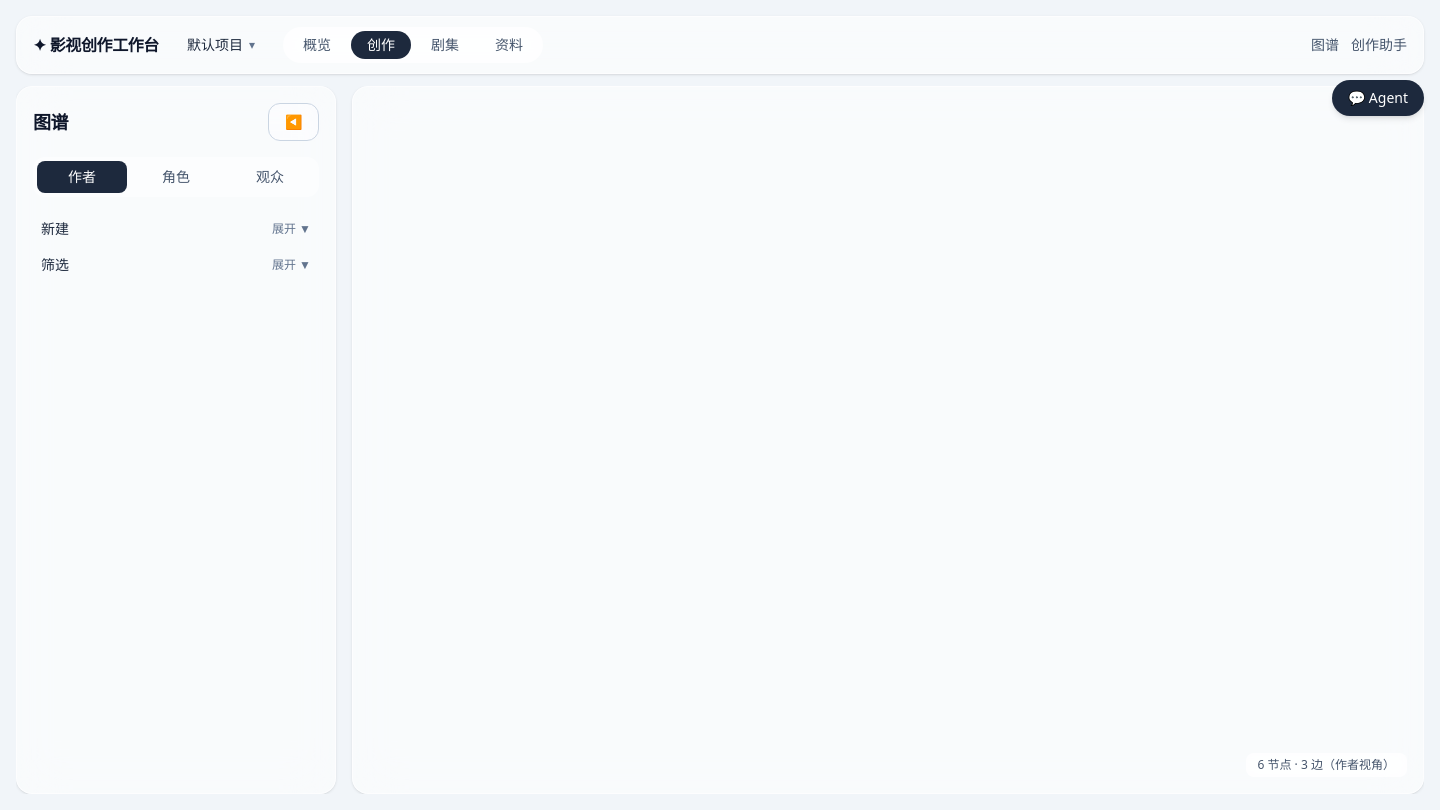
Scenario: Workbench 集成（I1–I8） › I14: 筛选联动状态栏可见计数——取消人物后 3 节点 0 边（已筛选），恢复后 6 节点 3 边
Expected: the text with test id "graph-stats" shows "6 节点 · 3 边", [1246, 753, 1407, 777]
Note: 设计依据: 交互三轮—可见计数联动；边界值—边计数 0（种子全部边触人物）
Click the button "筛选 展开 ▼" at [292, 264], box [33, 249, 319, 281]
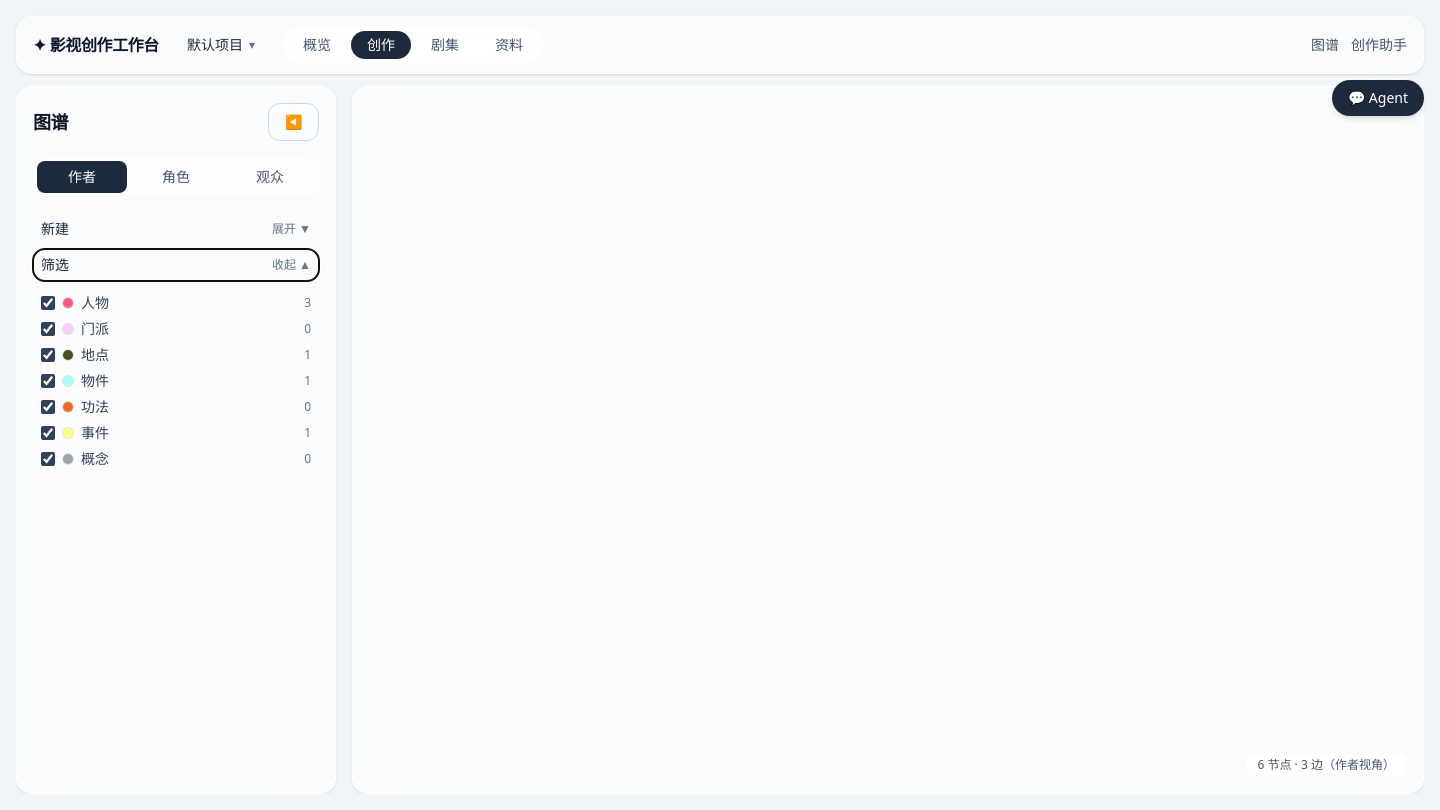
Click the checkbox named "人物 (3)" at [48, 303], box [41, 296, 55, 310]
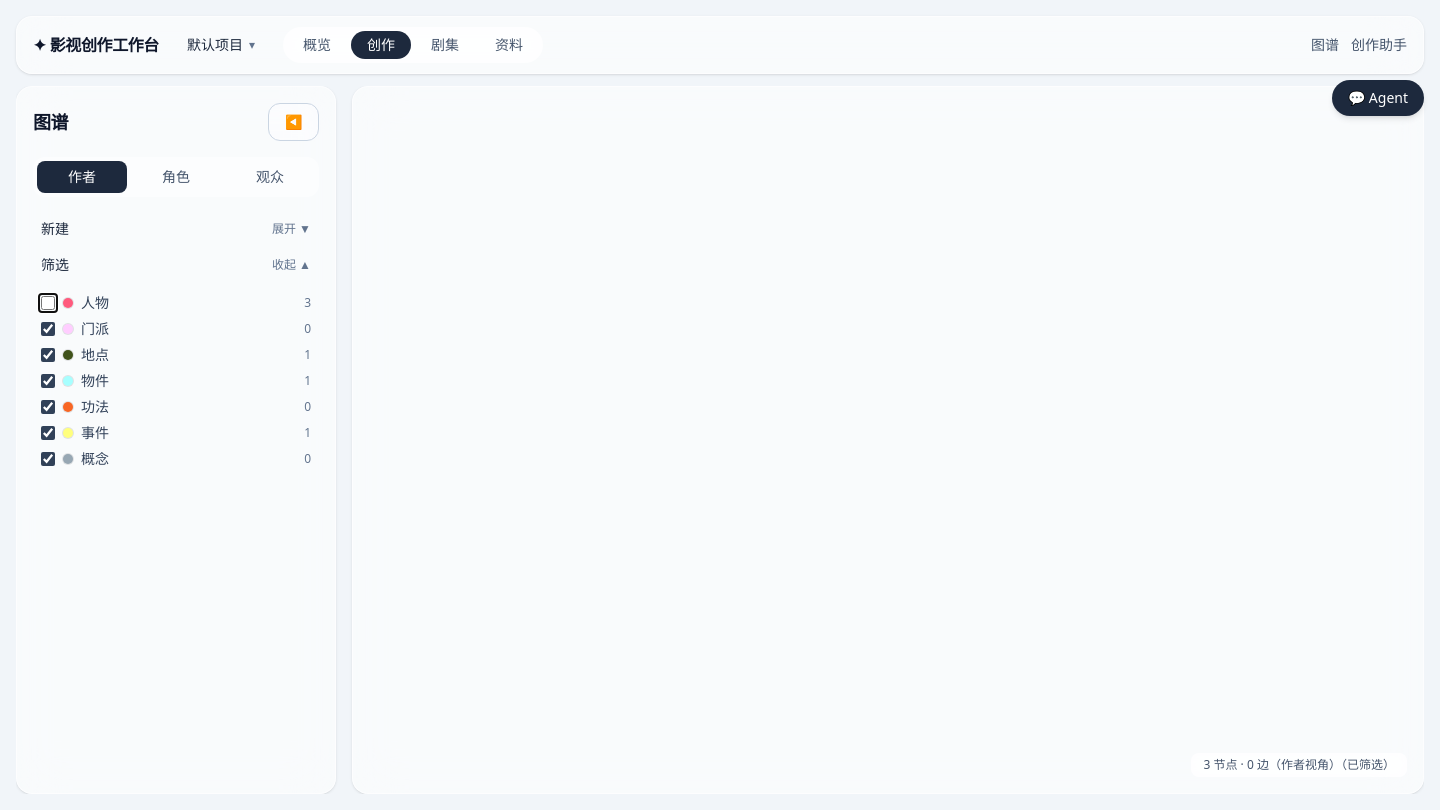
Now the text with test id "graph-stats" shows "3 节点 · 0 边", box [1192, 753, 1407, 777]
Now the text with test id "graph-stats" shows "（已筛选）", box [1341, 756, 1395, 773]
Click the checkbox named "人物 (3)" at [48, 303], box [41, 296, 55, 310]
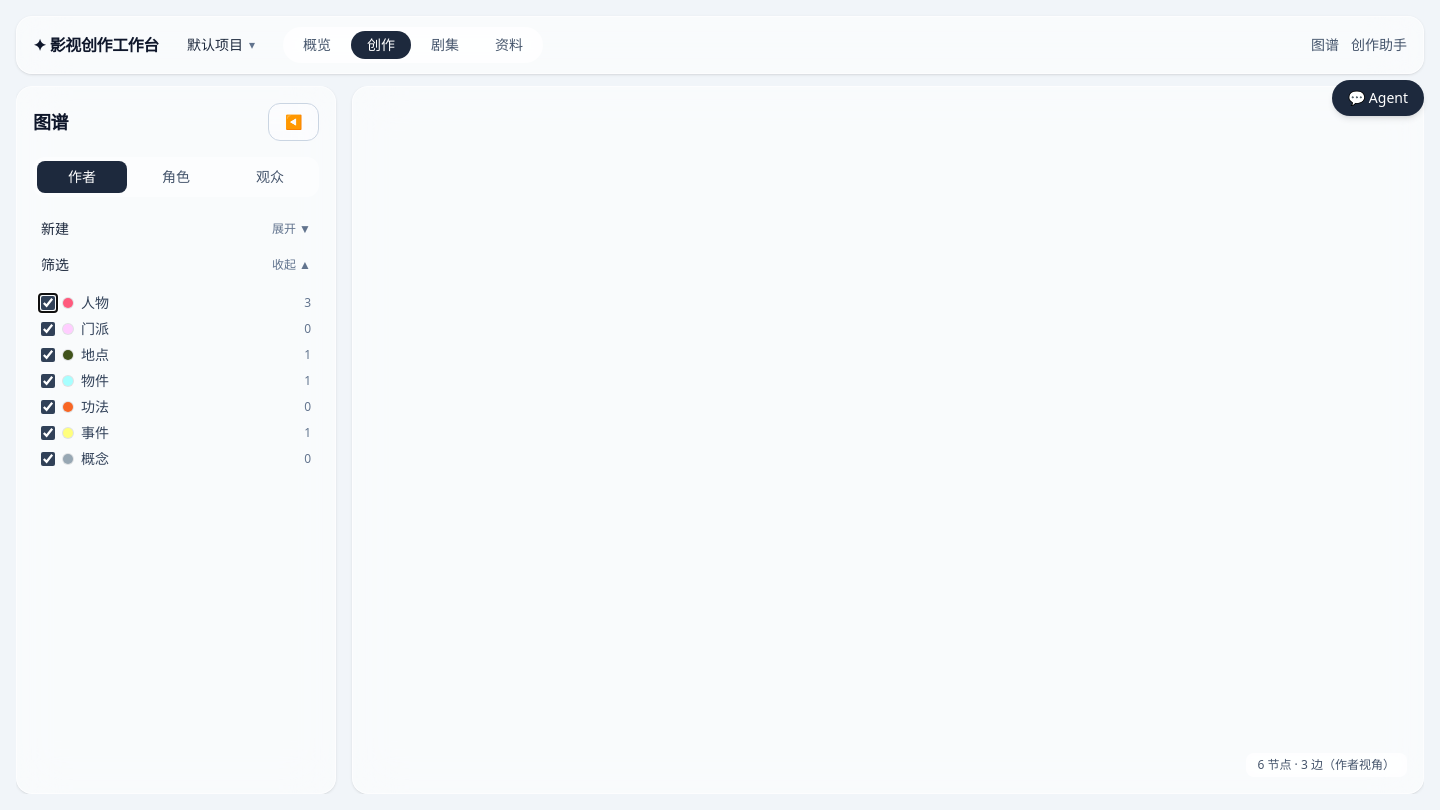
Now the text with test id "graph-stats" shows "6 节点 · 3 边", box [1246, 753, 1407, 777]
Now the text with test id "graph-stats" no longer shows "已筛选", box [1246, 753, 1407, 777]
